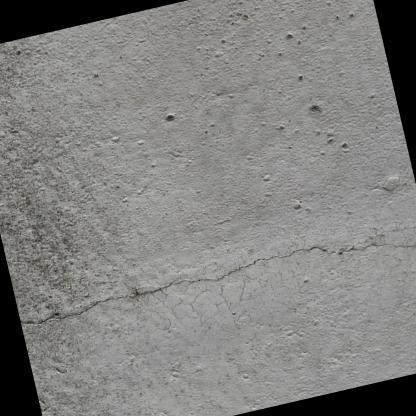crack: (20, 222, 416, 324)
